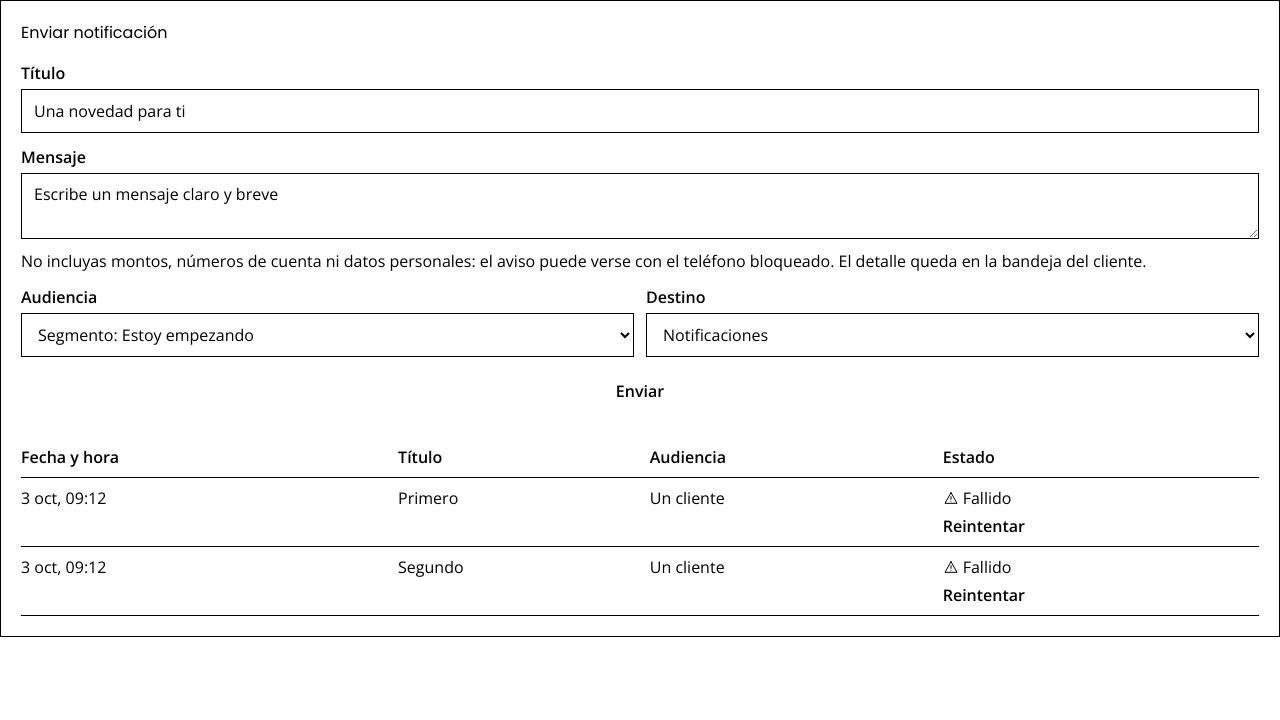
Test: PushCard history › disables every retry button while one retry is pending
This screenshot has width=1280, height=720.
Click the 1st button "Reintentar".
click(984, 526)  # box [943,514,1025,538]
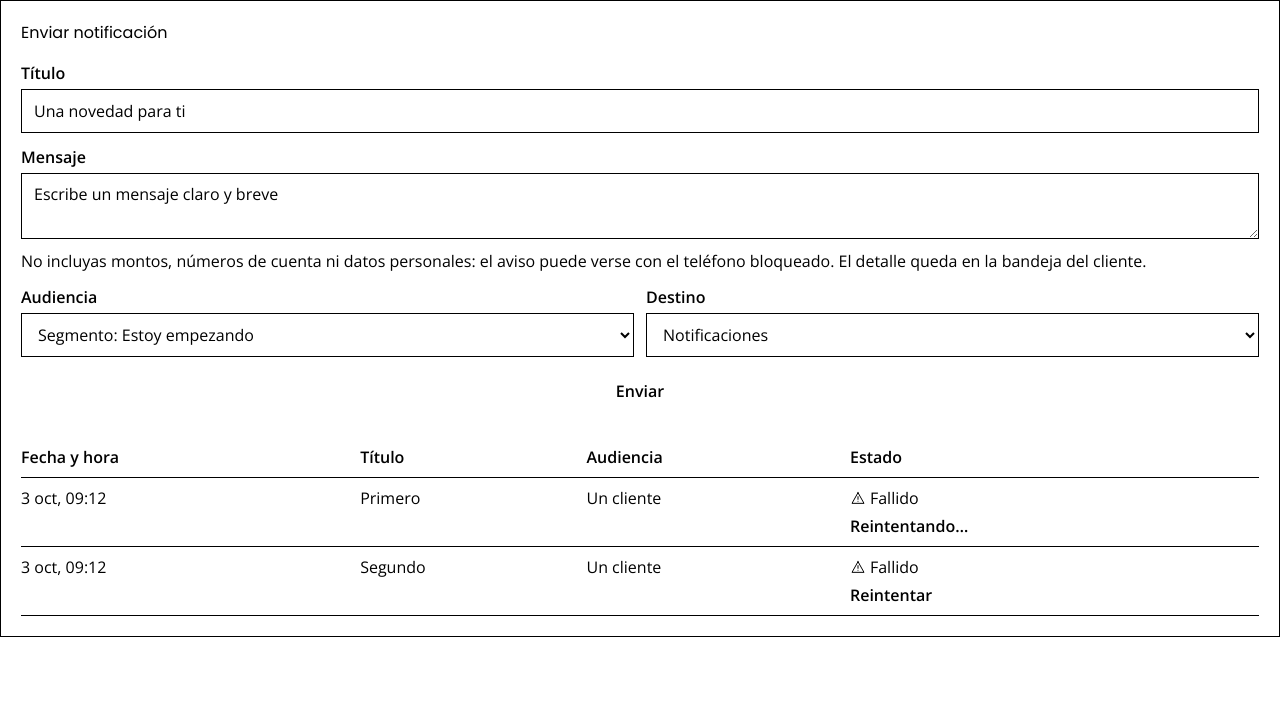
Click the button "Reintentar".
click(891, 595)  # box [850,583,932,607]
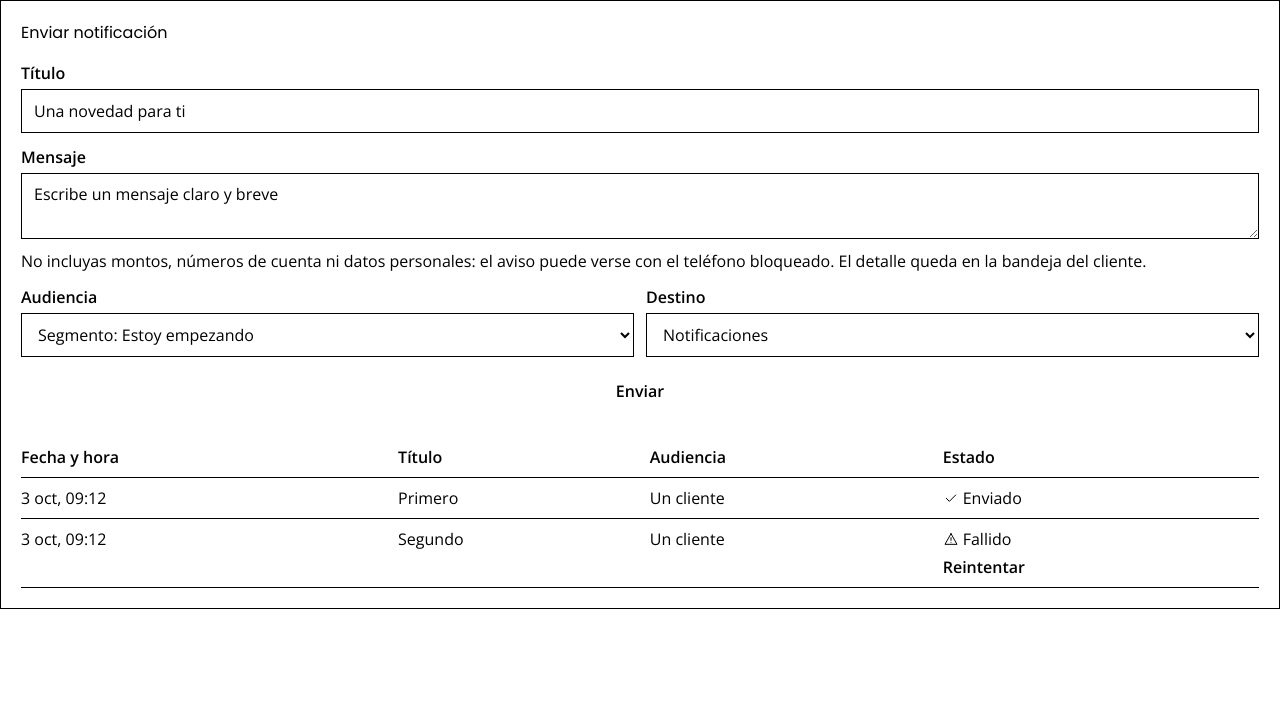
Expected: the text "Enviado" is shown, [943,487,1022,509]
